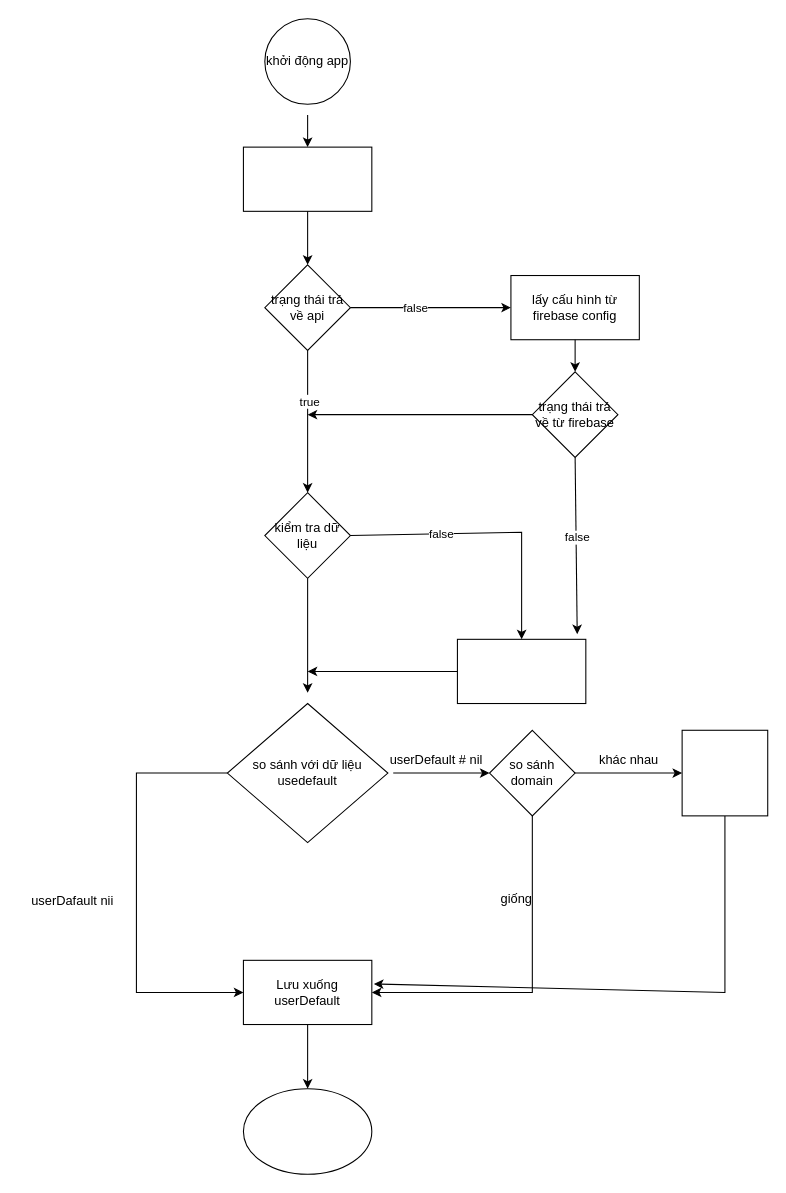
The diagram is 786 pixels wide and 1193 high, and some of its shapes have lost their labels. Here are the shapes that lost their labels. From the top down, the box of each, then its label:
(242, 146, 372, 211): Call api lấy config động
(456, 638, 586, 704): lấy dữ default từ app config
(681, 729, 768, 816): logout
(242, 1088, 372, 1174): kết thúc
